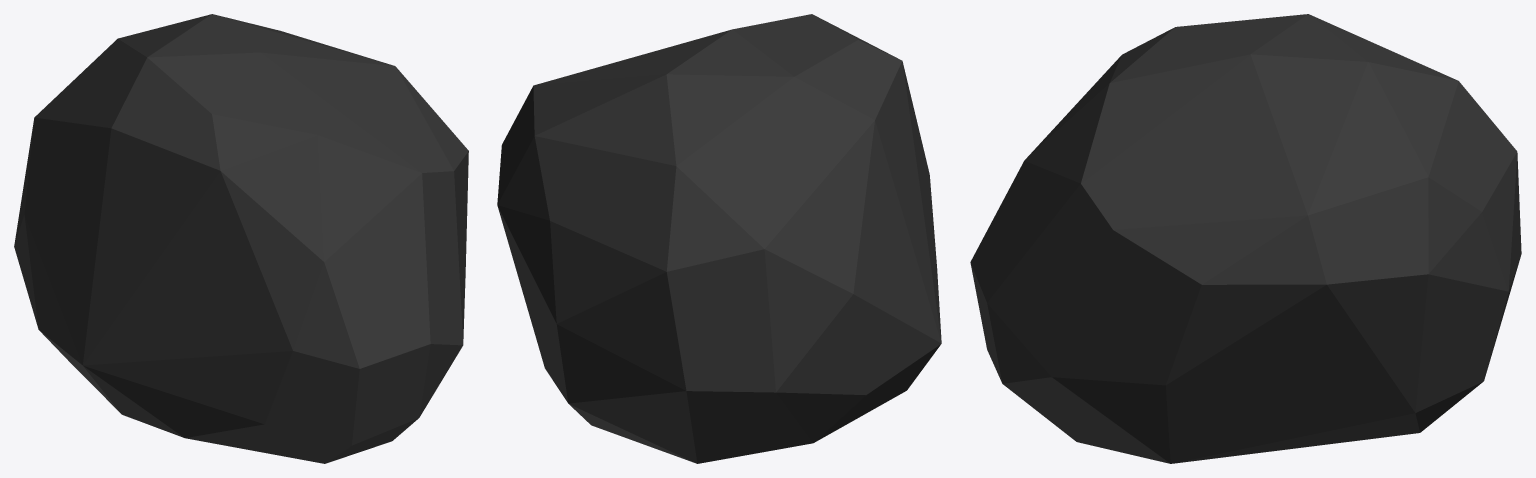
File: asteroid03.gltf
3 views of the same model, side by side, from view 1: azimuth 30°, elevation 25°; view 2: azimuth 150°, elevation 25°; view 3: azimuth 270°, elevation 25° (orthographic). The views are drawn at different scales.
Parts seen in each view (by area): view 1: Cube; view 2: Cube; view 3: Cube.
Boxes of the visible parts, <box> form: Cube: <box>14,14,468,463</box>; Cube: <box>497,14,941,463</box>; Cube: <box>970,14,1521,463</box>.
Bounding box in the file's own units: 2.93 × 2.61 × 3.53.
1 material, 1 textured.
